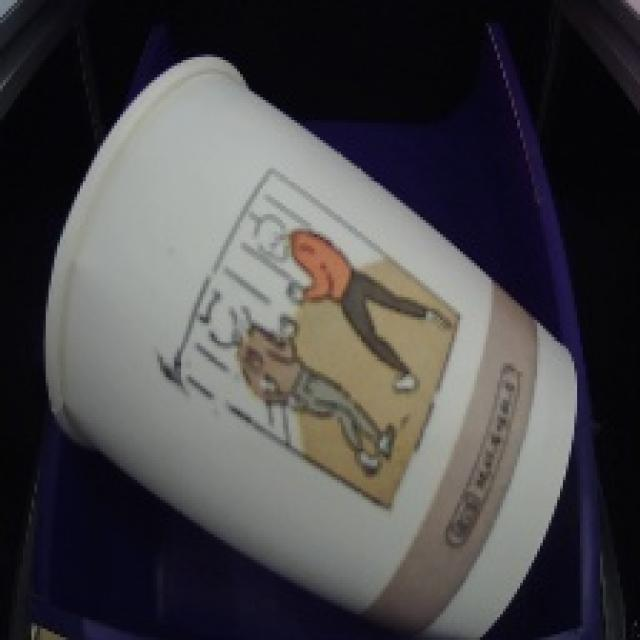cups: (33, 46, 591, 640)
